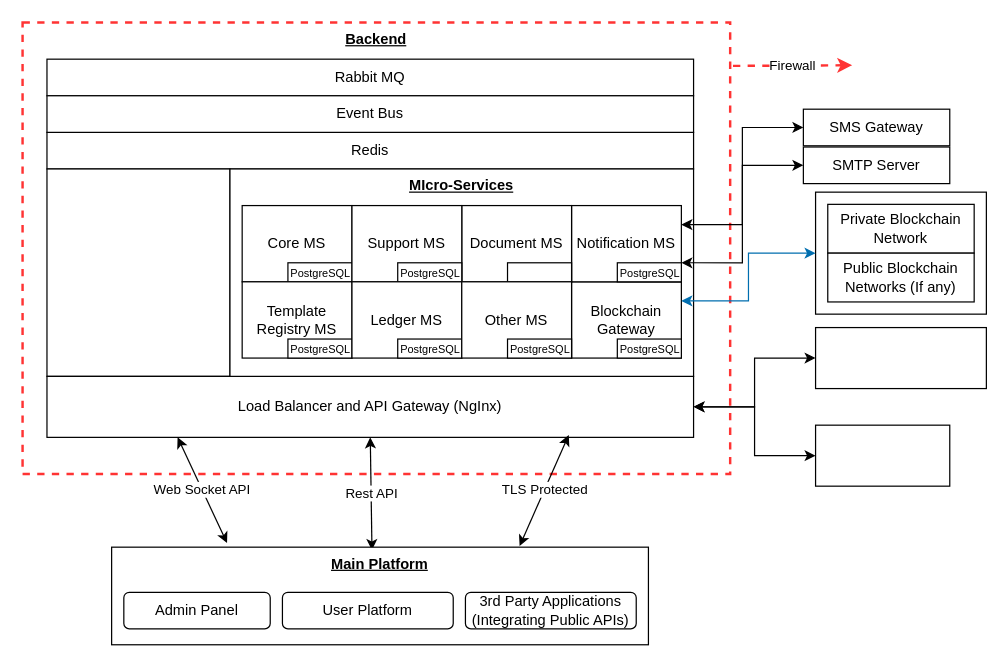
The diagram is 1008 pixels wide and 666 high, and some of its shapes have lost their labels. Here are the shapes that lost their labels. From the top down, the centre of each, then its label:
the point at 138,272: Web Socket Relay Cluster
the point at 539,272: MongoDB
the point at 900,357: 3rd Party Services (Ex. Payment Gateway)
the point at 882,455: Existing APIs (if any)
